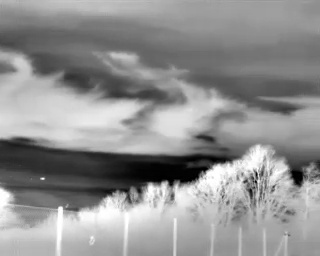HELICOPTER: (38, 174, 48, 183)
